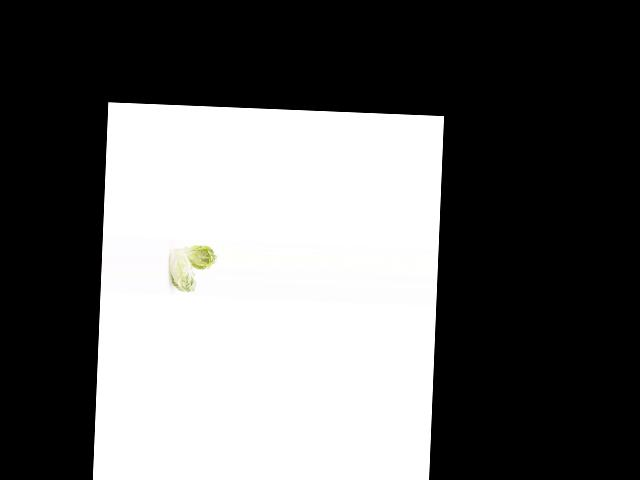lettuce: (166, 245, 200, 295)
